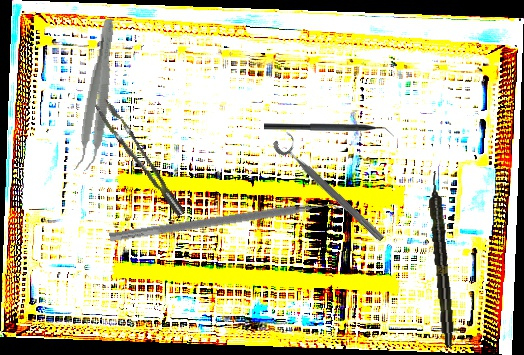Chopper: (264, 123, 394, 139)
Fixation Ring: (270, 128, 393, 246)
Handpiece: (426, 170, 457, 348)
Spatula Surgical: (108, 195, 345, 253)
Tissue Forceps: (93, 91, 186, 226), (72, 16, 120, 174)
